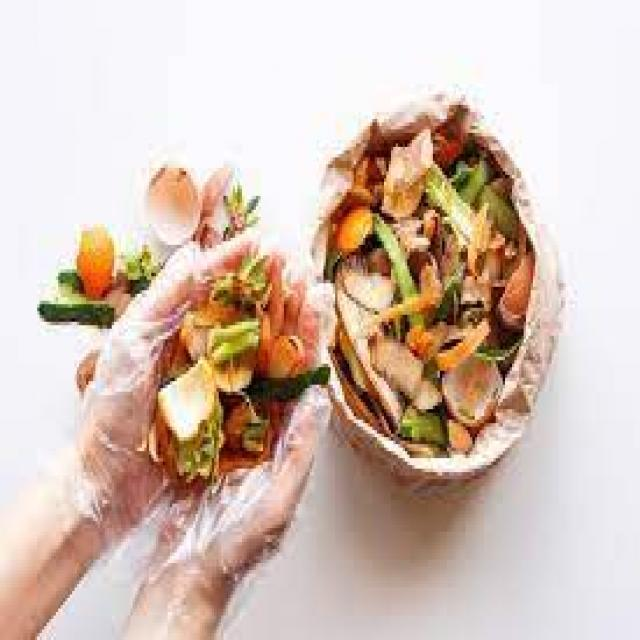Wet: (297, 88, 544, 452), (65, 113, 257, 322), (120, 290, 301, 490)
